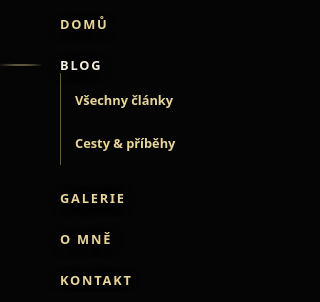
Test: na /blog ponechá podkategorie otevřené i po kliku, klávesnici a změně filtru
Expected: the link "Cesty & příběhy" is shown, 75,134 -> 175,152
Click the button "Blog": point(81, 65) 60,57 -> 102,73
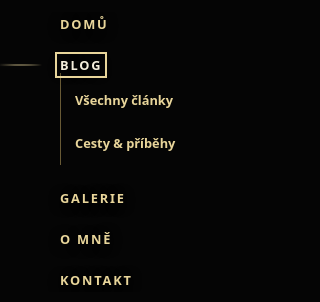
Type keys "{Enter} {Escape}"
Press Tab
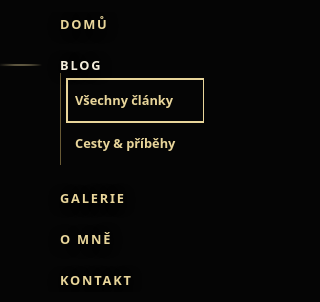
Click the link "Cesty & příběhy": point(125, 143) 75,134 -> 175,152
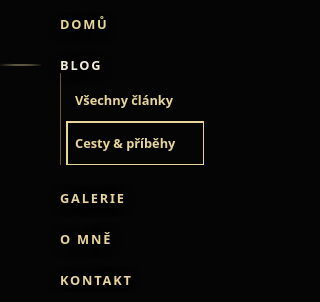
Click the link "GALERIE": point(93, 198) 60,190 -> 126,206
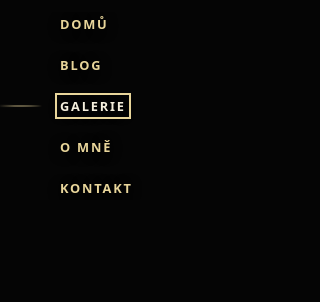
Expected: the button "Blog" is collapsed
Click the button "Blog": point(81, 65) 60,57 -> 102,73
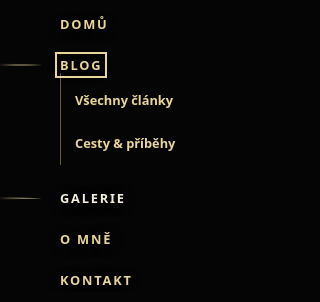
Expected: the link "Cesty & příběhy" is shown, 75,134 -> 175,152
